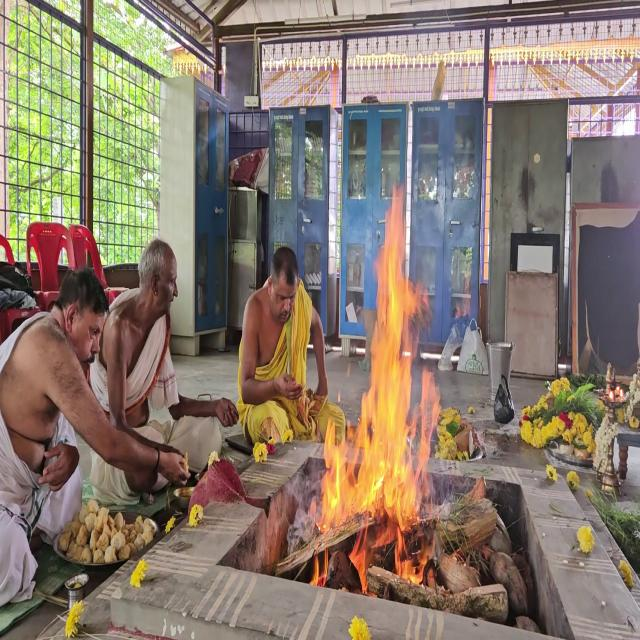fire: (314, 176, 444, 602)
